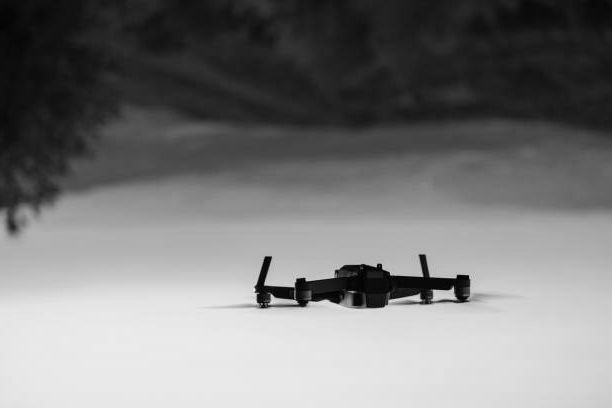Drone: (194, 250, 494, 312)
